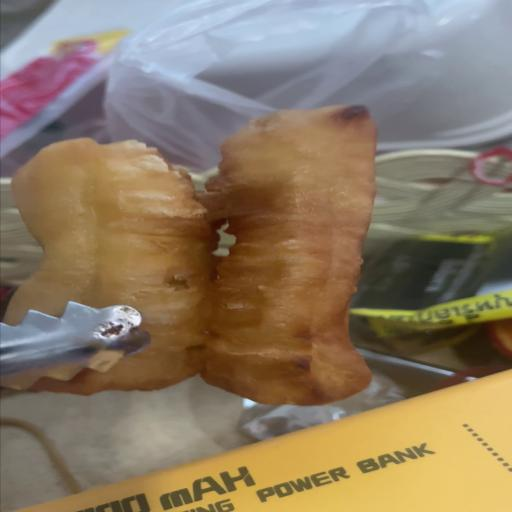street_burnt_defect: (5, 106, 376, 406)
